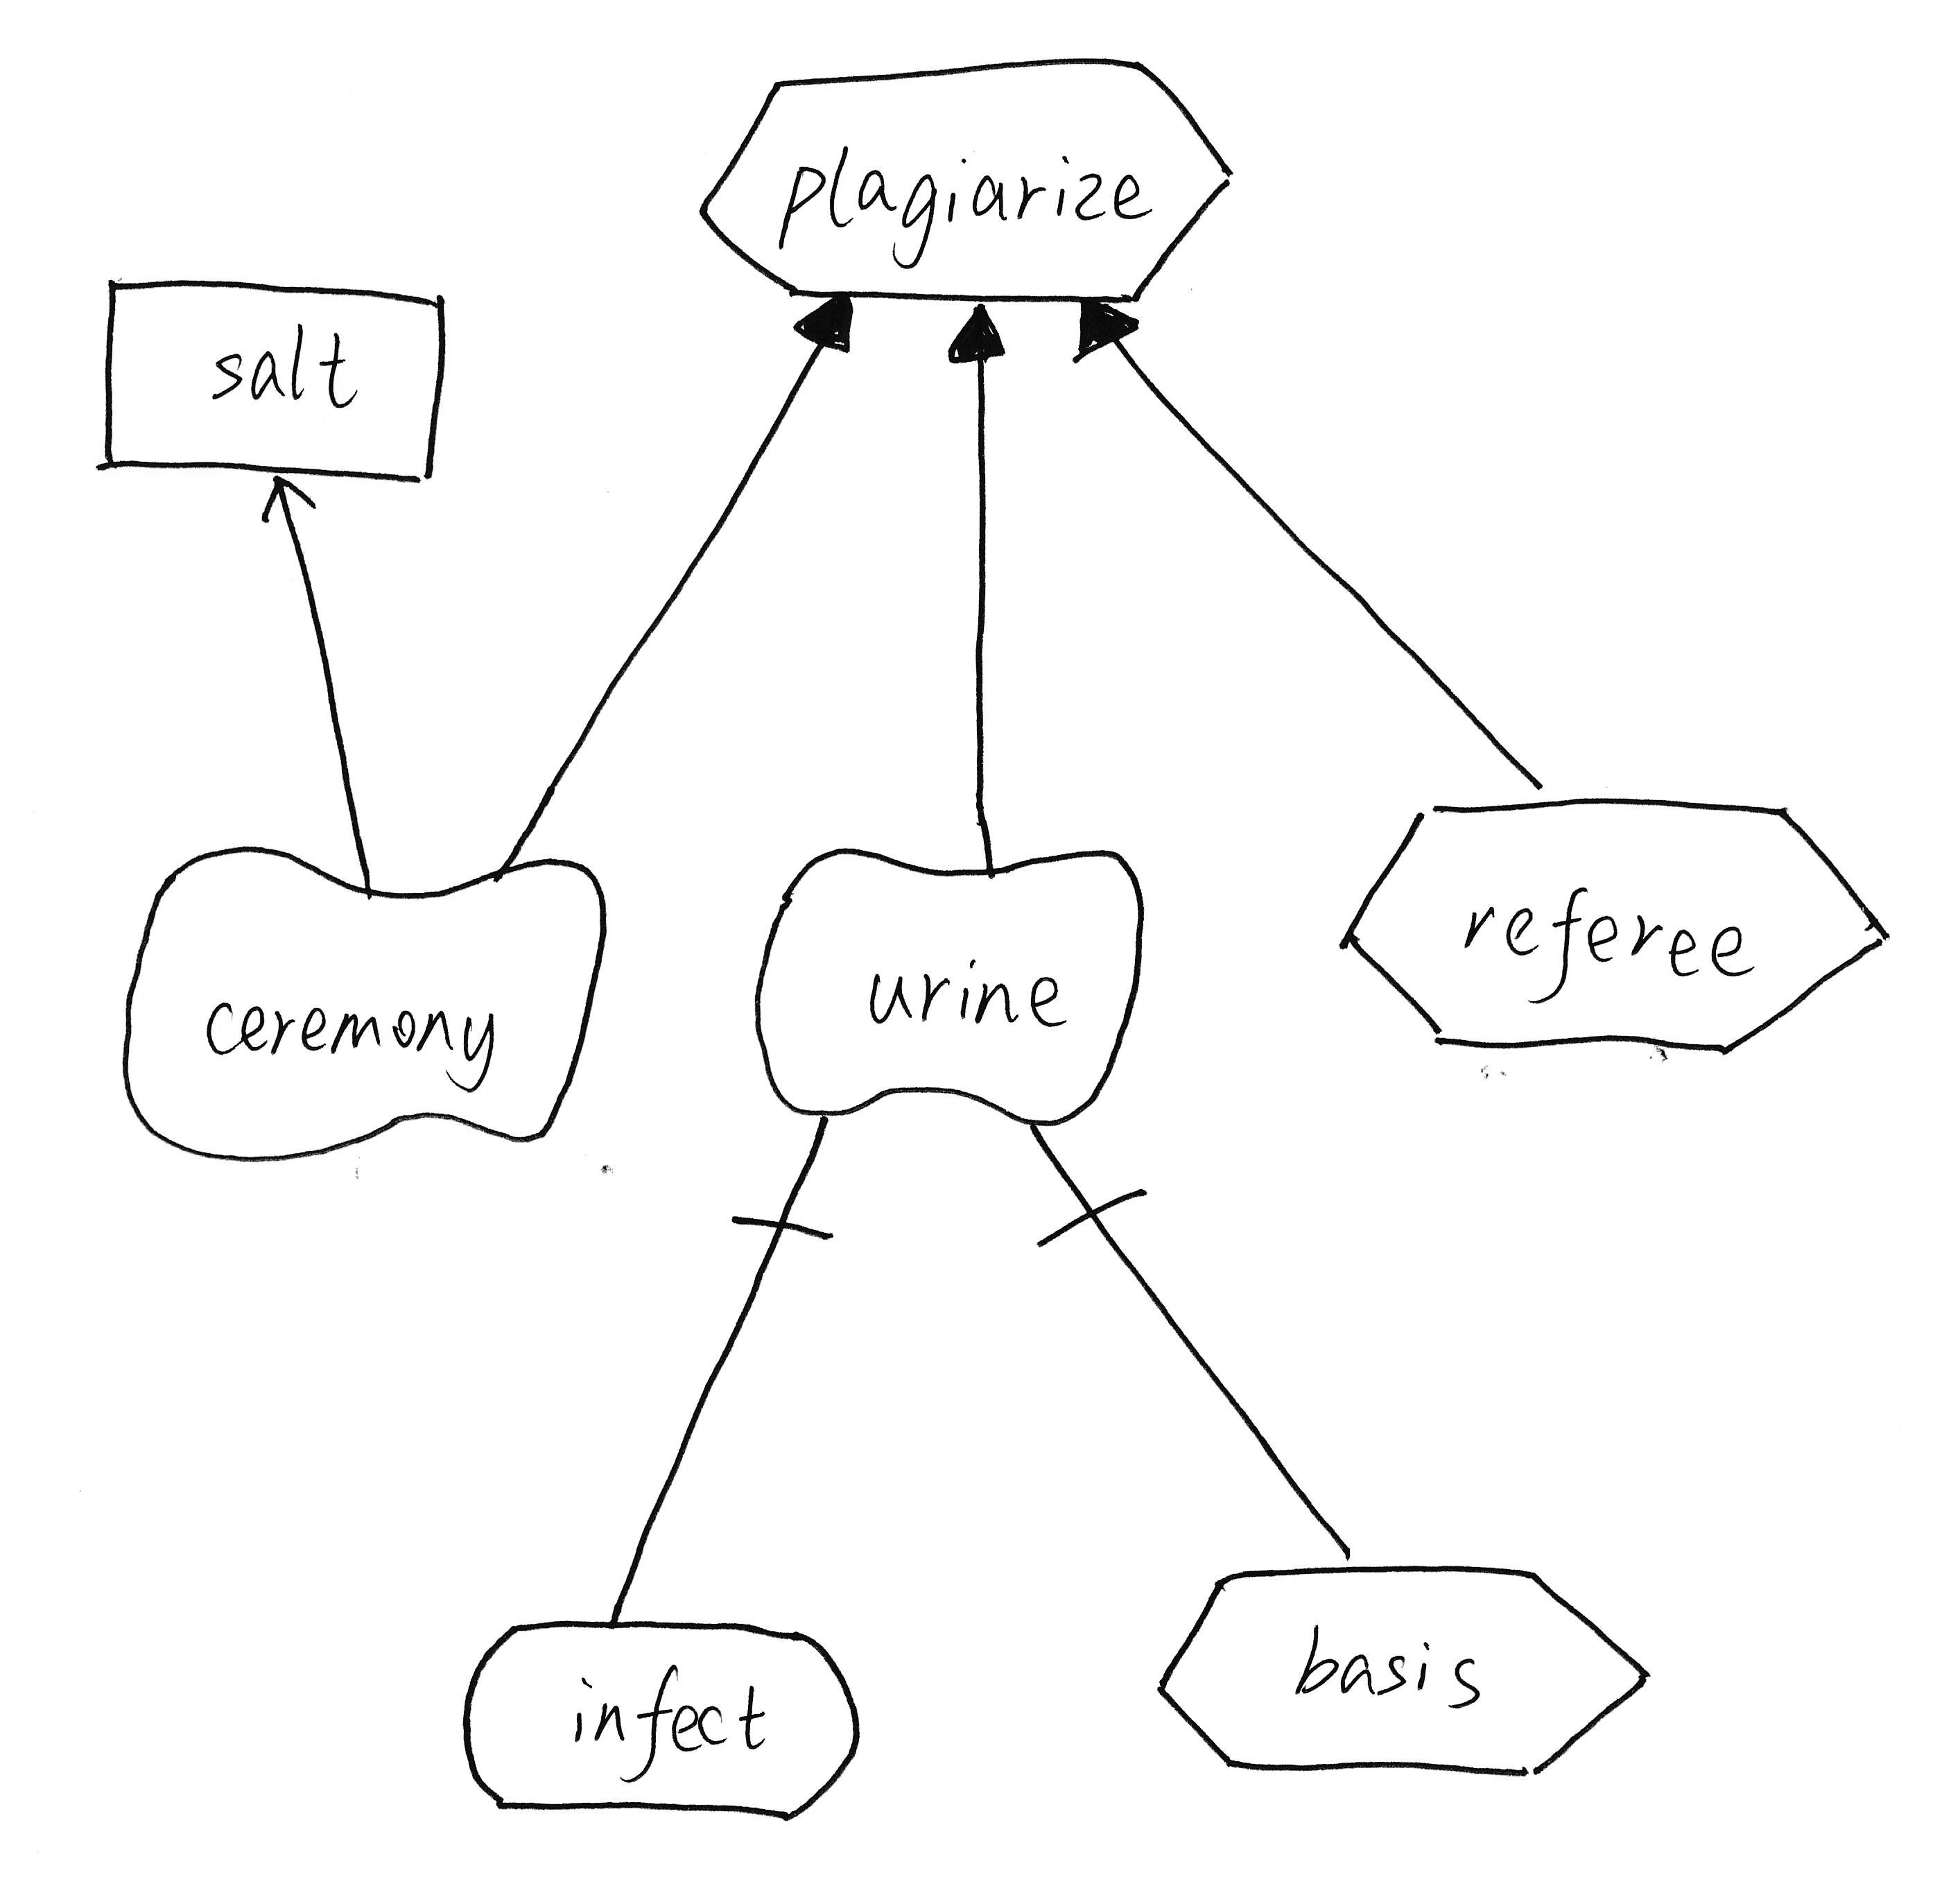and: (1017, 1111, 1155, 1261), (723, 1100, 850, 1253)
arrow: (241, 464, 324, 535)
goal: (439, 1597, 879, 1830)
or: (775, 278, 875, 360), (1067, 283, 1148, 366), (941, 292, 1015, 376)
quality: (95, 822, 632, 1177), (738, 831, 1165, 1139)
resource: (84, 261, 471, 506)
task: (1326, 777, 1909, 1074), (677, 37, 1242, 320), (1143, 1548, 1664, 1792)
